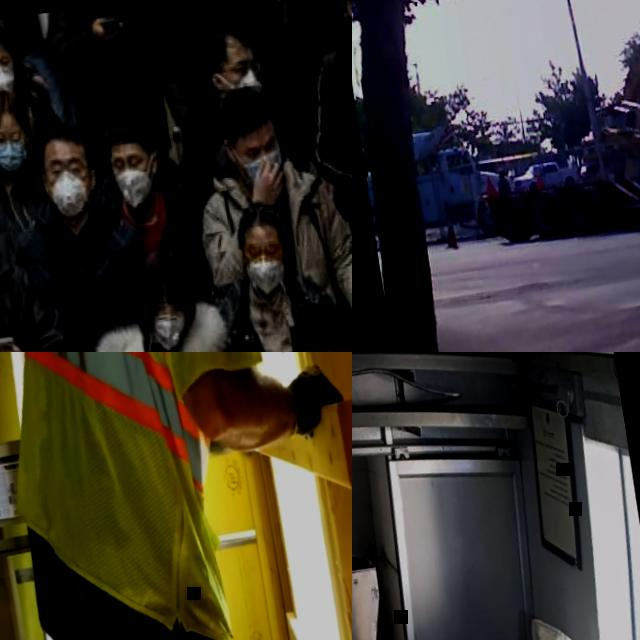Mask: (45, 167, 98, 222), (114, 161, 160, 209), (238, 147, 289, 189), (244, 254, 289, 299), (152, 314, 190, 352), (216, 67, 262, 97), (0, 138, 30, 175), (0, 63, 16, 96)
NO-Hardhat: (136, 242, 196, 305), (214, 85, 277, 140), (194, 12, 255, 63), (234, 195, 287, 241), (37, 114, 91, 158), (101, 110, 155, 152), (0, 90, 30, 127), (0, 23, 14, 57), (499, 168, 506, 175)
NO-Safety Vest: (14, 212, 163, 352), (69, 0, 167, 127), (162, 0, 262, 87), (132, 192, 205, 277), (0, 167, 57, 266), (0, 263, 59, 352), (323, 21, 352, 202), (189, 88, 234, 184), (288, 0, 352, 49)
Person: (0, 352, 352, 640), (0, 103, 200, 352), (179, 71, 352, 352), (163, 4, 320, 228), (77, 107, 218, 325), (43, 0, 198, 187), (69, 233, 284, 352), (204, 184, 352, 352), (148, 0, 302, 134), (0, 159, 92, 352), (286, 0, 352, 231), (0, 84, 68, 274), (0, 17, 64, 191), (280, 0, 352, 104), (5, 11, 66, 114), (496, 168, 513, 198)
Safety Cone: (445, 219, 459, 250), (485, 176, 496, 200), (534, 168, 545, 191)
Safety Vest: (0, 352, 306, 640)
vehicle: (361, 118, 510, 249), (559, 4, 640, 192), (512, 155, 582, 197)
